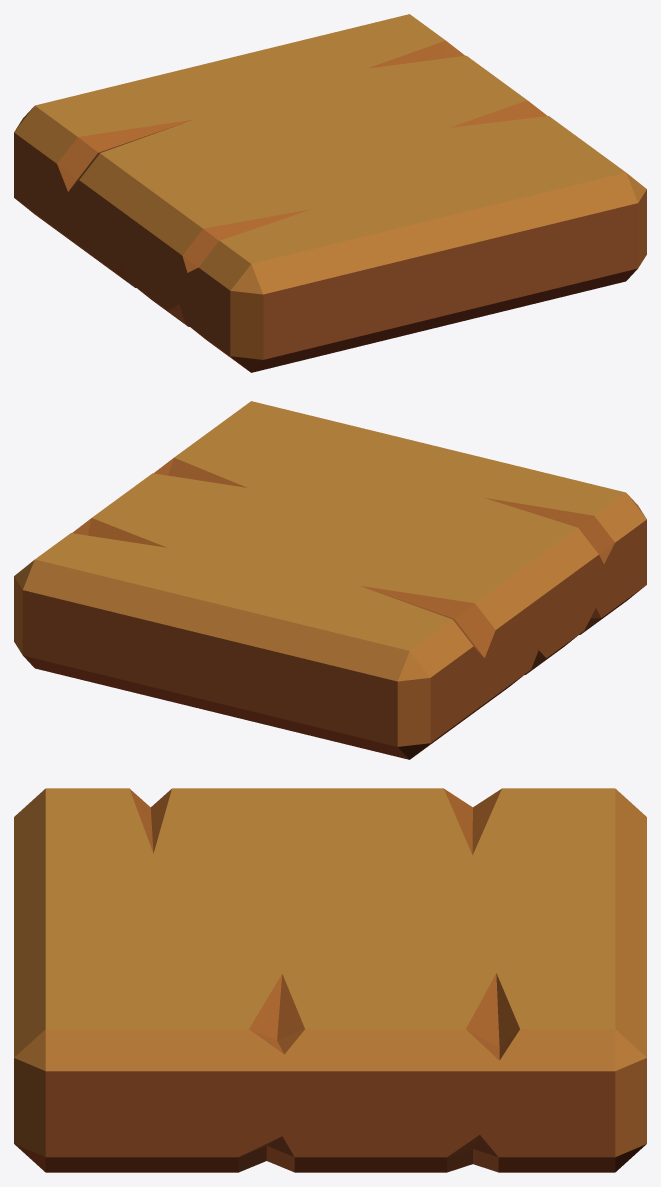
The model's file is m_kub_wood_flatPlate.FBX.
The picture shows the model from 3 angles, top to bottom: view 1: azimuth 30°, elevation 25°; view 2: azimuth 150°, elevation 25°; view 3: azimuth 270°, elevation 25°; orthographic projection. The views are drawn at different scales.
Visible parts, largest first — view 1: m_kub_wood_flatPlate; view 2: m_kub_wood_flatPlate; view 3: m_kub_wood_flatPlate.
Part boxes in pixels (box(x1,y1,x2,y2)): m_kub_wood_flatPlate: box(14, 14, 646, 372); m_kub_wood_flatPlate: box(14, 401, 646, 759); m_kub_wood_flatPlate: box(14, 788, 646, 1172).
Size of the model in its own units: 2 by 0.5 by 2.
